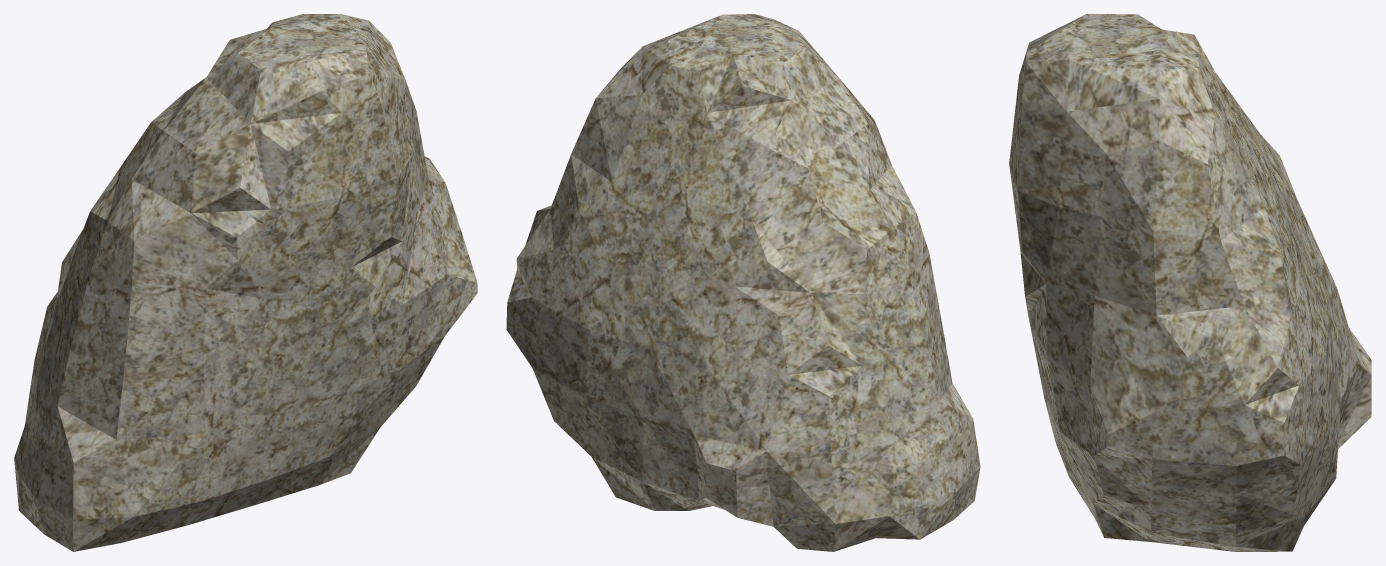
Rendered from sweethome3d-blendswap-cc-0-rock.glb.
3 renders of one model, left to right at view 1: azimuth 30°, elevation 25°; view 2: azimuth 150°, elevation 25°; view 3: azimuth 270°, elevation 25°, orthographic. The views are drawn at different scales.
Parts seen in each view (by area): view 1: Rock01v3_Rock_HP.004; view 2: Rock01v3_Rock_HP.004; view 3: Rock01v3_Rock_HP.004.
Part boxes in pixels (box(x1,y1,x2,y2)): Rock01v3_Rock_HP.004: box(14, 14, 477, 551); Rock01v3_Rock_HP.004: box(506, 14, 980, 551); Rock01v3_Rock_HP.004: box(1009, 14, 1371, 551).
Size of the model in its own units: 50.5 by 50.03 by 33.74.
Materials: 1 (1 with a texture image).
